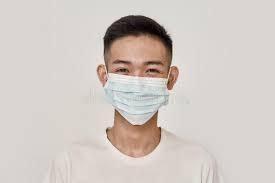mask: (101, 72, 174, 126)
